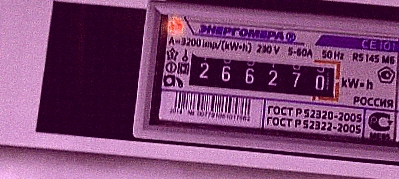0: (312, 71, 324, 92)
2: (195, 59, 211, 81), (265, 67, 279, 88)
6: (218, 63, 232, 84), (242, 65, 256, 85)
7: (288, 69, 302, 89)
screen: (174, 40, 351, 111)
